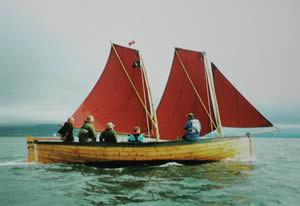Ship: (26, 44, 275, 168)
